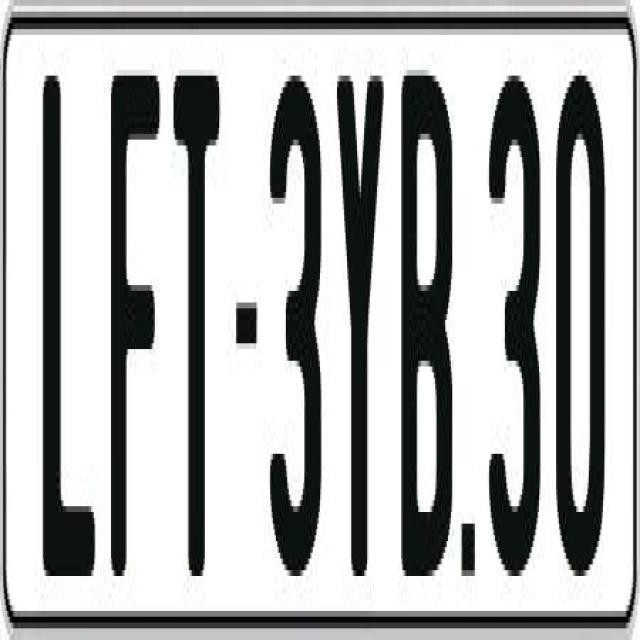0: (553, 64, 610, 570)
3: (270, 64, 324, 582), (490, 76, 544, 594)
B: (398, 70, 452, 606)
F: (110, 64, 166, 588)
L: (42, 58, 102, 576)
T: (170, 58, 220, 588)
Y: (337, 58, 388, 594)
